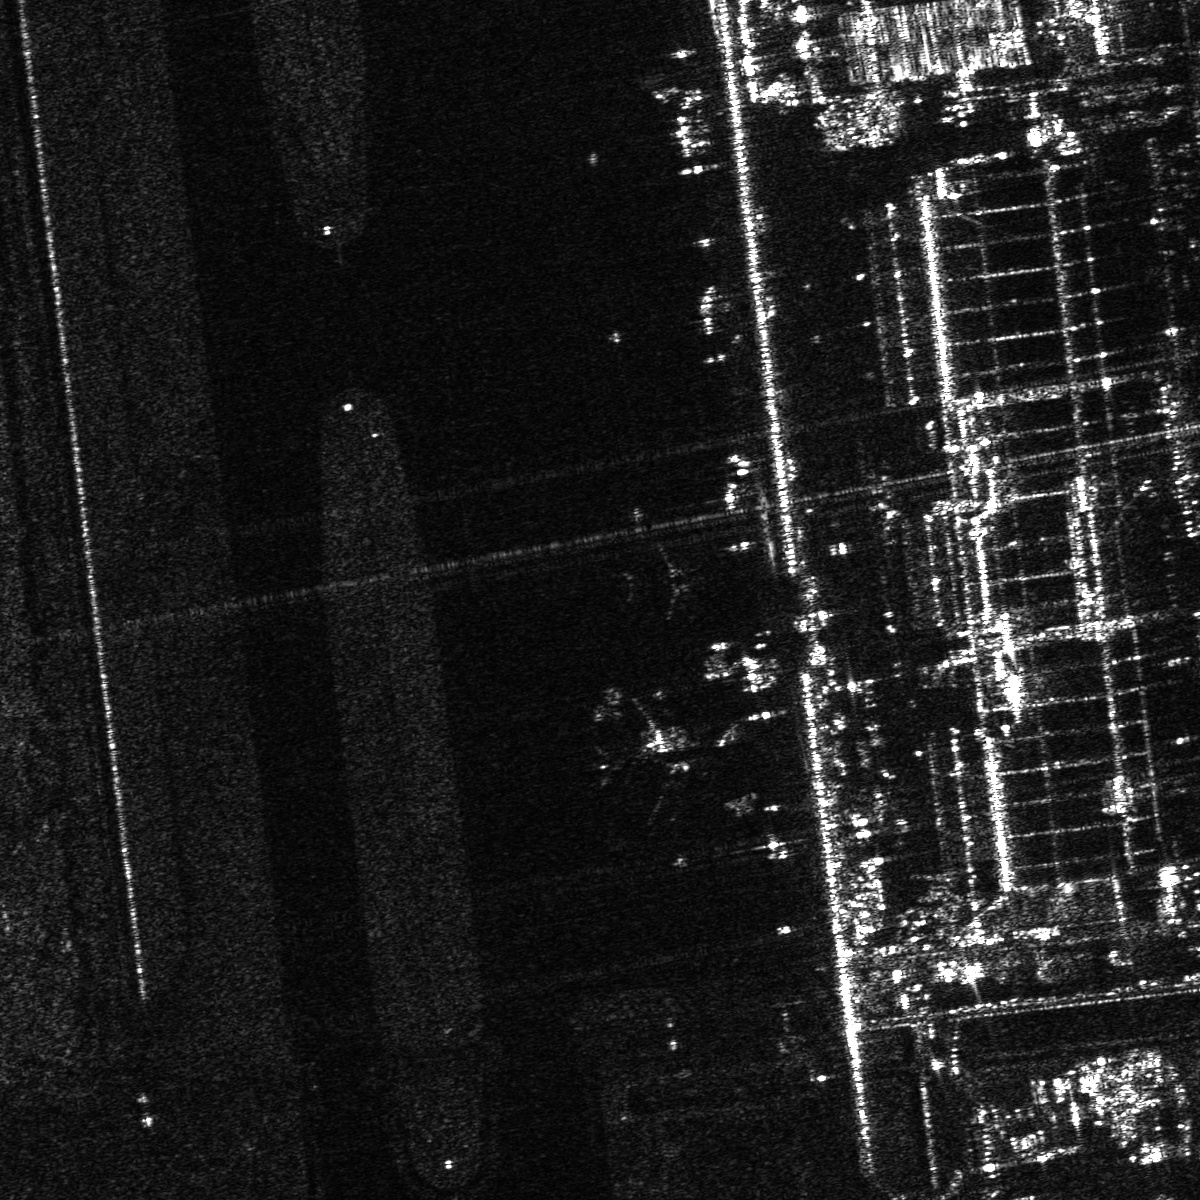Boeing787: (596, 698, 705, 821), (615, 538, 703, 622)
